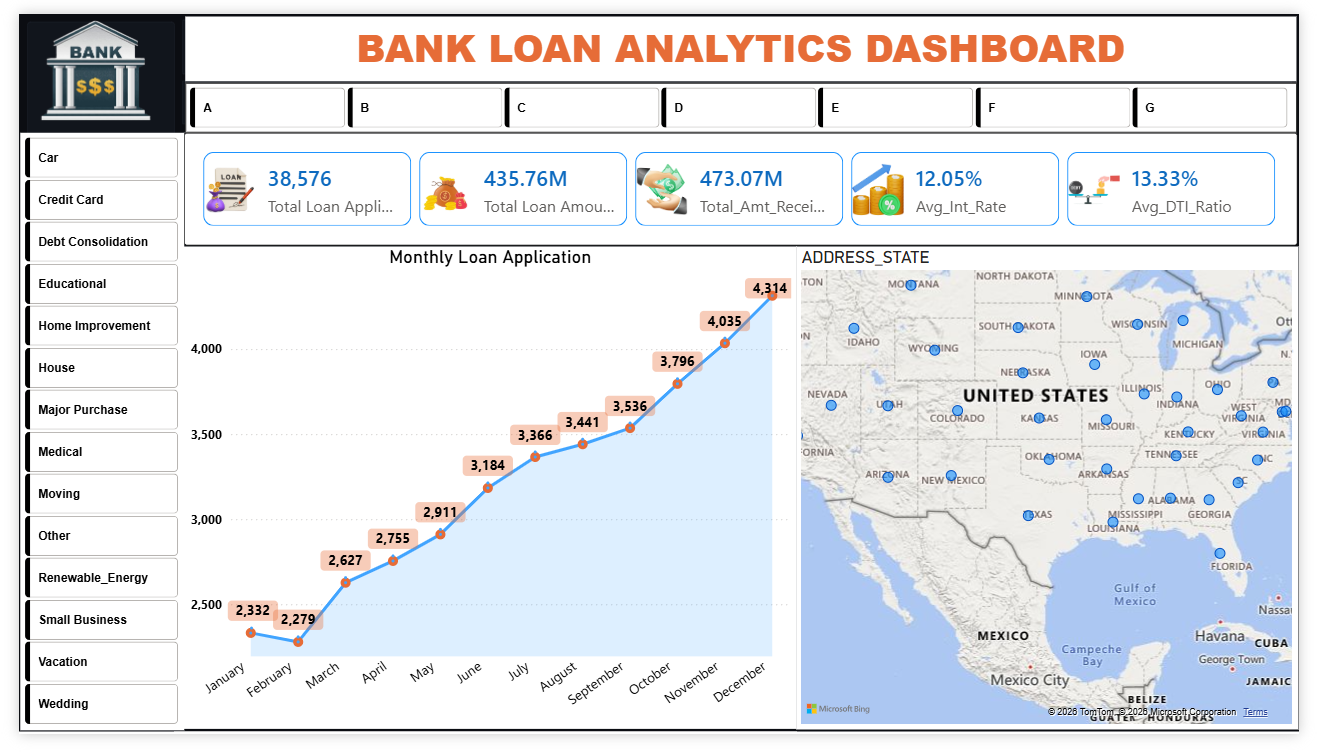

Layout of this report page (visuals, bound fields, positions):
{"tool":"powerbi","page":{"name":"Overview_1","canvas":[1280,720],"ordinal":1},"visuals":[{"type":"cardVisual","fields":{"Data":["All Measures.Loan ID","All Measures.Total Loan Amount","All Measures.Total Amount Received","All Measures.Average Interest Rate","All Measures.Avg_DTI"]},"box":[165.1,118.6,1114,112.8],"z":0},{"type":"image","box":[0,3.8,153.8,105],"z":1000},{"type":"advancedSlicerVisual","fields":{"Values":["financial_loan.PURPOSE"]},"box":[1.2,118.8,163.8,597.5],"z":2000},{"type":"advancedSlicerVisual","fields":{"Values":["financial_loan.GRADE"]},"box":[166.2,68.8,1111.2,50],"z":3000},{"type":"textbox","box":[166.2,2.5,1111.2,65],"z":4000},{"type":"lineChart","title":"Monthly Loan Application","fields":{"Category":["financial_loan.ISSUE_DATE.Variation.Date Hierarchy.Month"],"Y":["All Measures.Total Loan Application"]},"box":[165.6,232.5,612.5,482],"z":5000},{"type":"map","fields":{"Category":["financial_loan.ADDRESS_STATE"]},"box":[778.1,232.5,501.3,482],"z":5001}]}

Visuals, with their boxes in screenshot pixels (x1, y1, x2, y2), scaled from the page's 1280x720 canvas onto the 1334x752 screenshot:
cardVisual - All Measures.Loan ID x All Measures.Total Loan Amount: 172:124:1333:242
image: 0:4:160:114
advancedSlicerVisual - financial_loan.PURPOSE: 1:124:172:748
advancedSlicerVisual - financial_loan.GRADE: 173:72:1331:124
textbox: 173:3:1331:70
"Monthly Loan Application" lineChart: 173:243:811:746
map - financial_loan.ADDRESS_STATE: 811:243:1333:746
